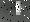person: (18, 2, 25, 16)
